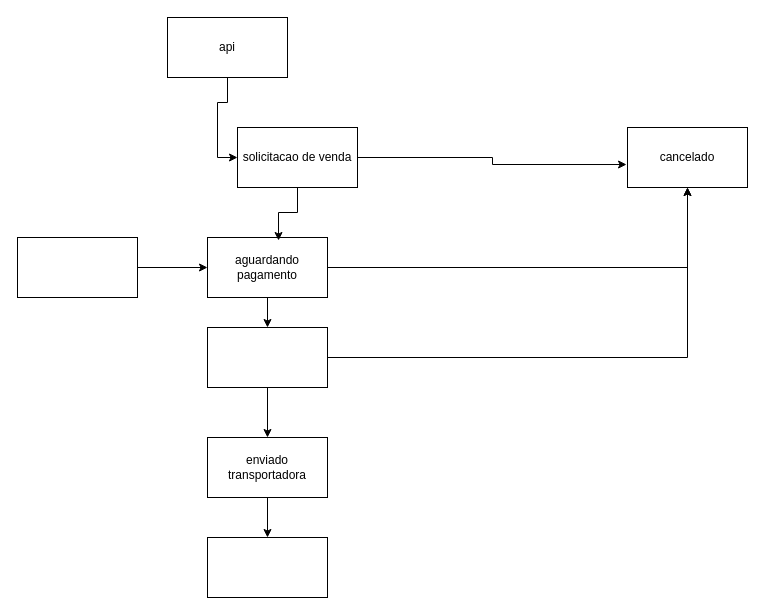
This 765x615 diagram has some shape labels left out. The shapes that lost their labels are listed below. From the top down, each one's box as (x1, y1, x2, y2) in pixels, then its label:
(16, 236, 138, 298): adicionar/remover produtos
(206, 326, 328, 388): pagamento aprovado
(206, 536, 328, 598): entregue
